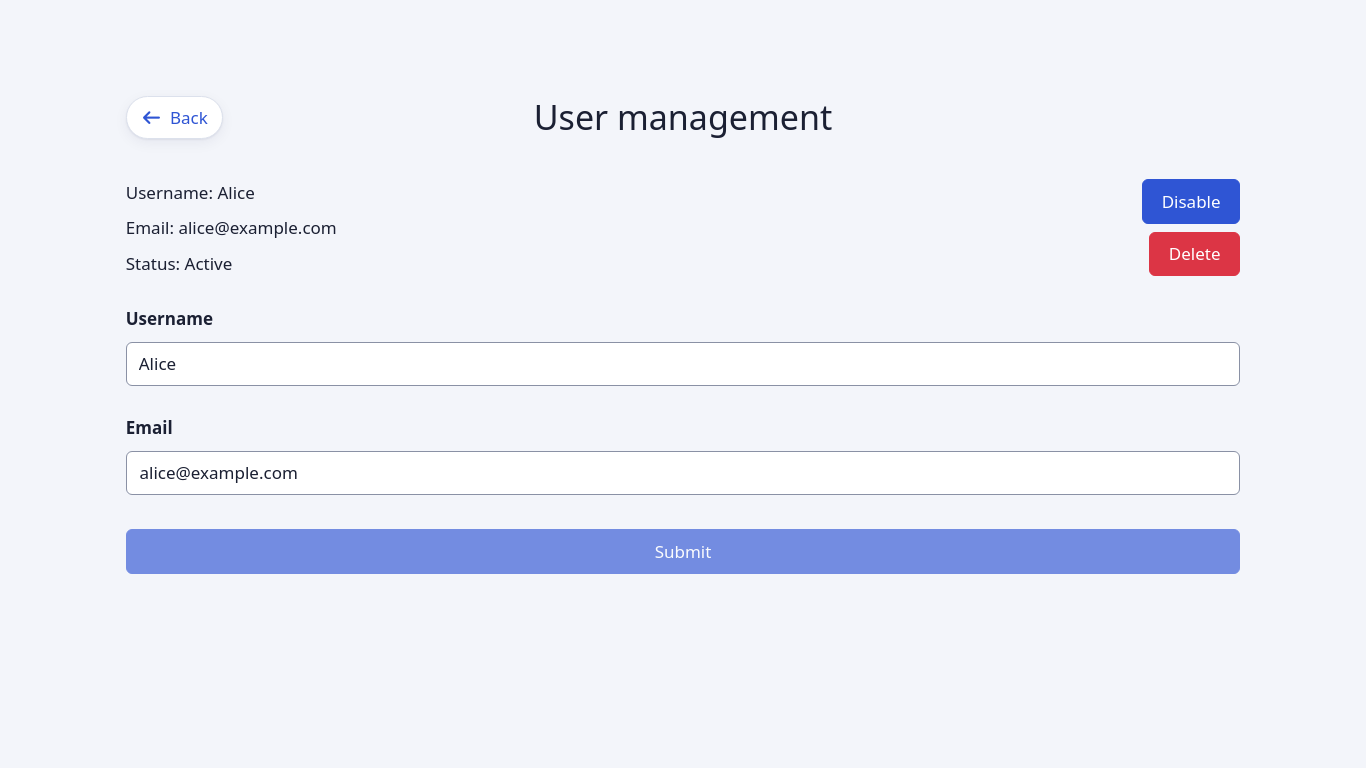
keeps the account and shows the reason when the DaaS cleanup fails
Click the button "Delete" at (1195, 254), box [1149,232,1240,276]
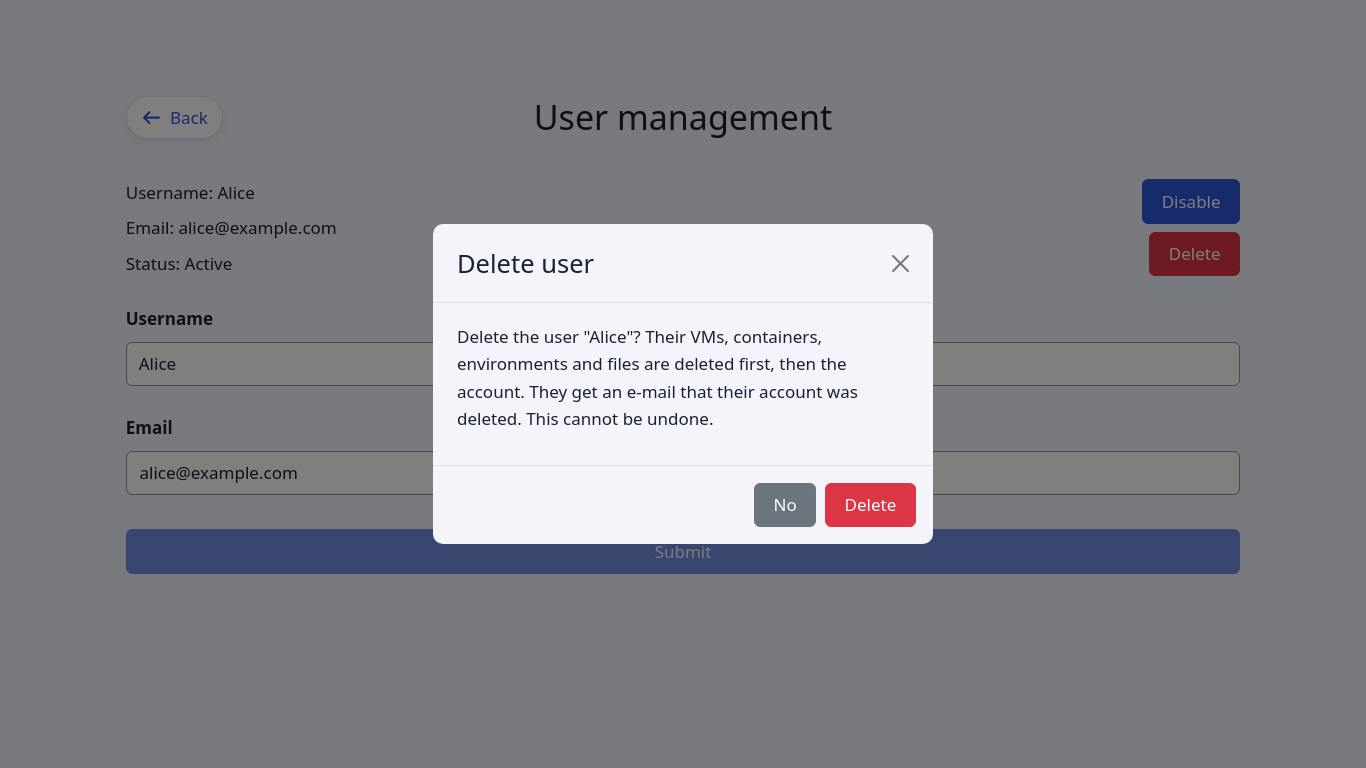
Click the button "Delete" at (870, 505), box [825,483,916,527]
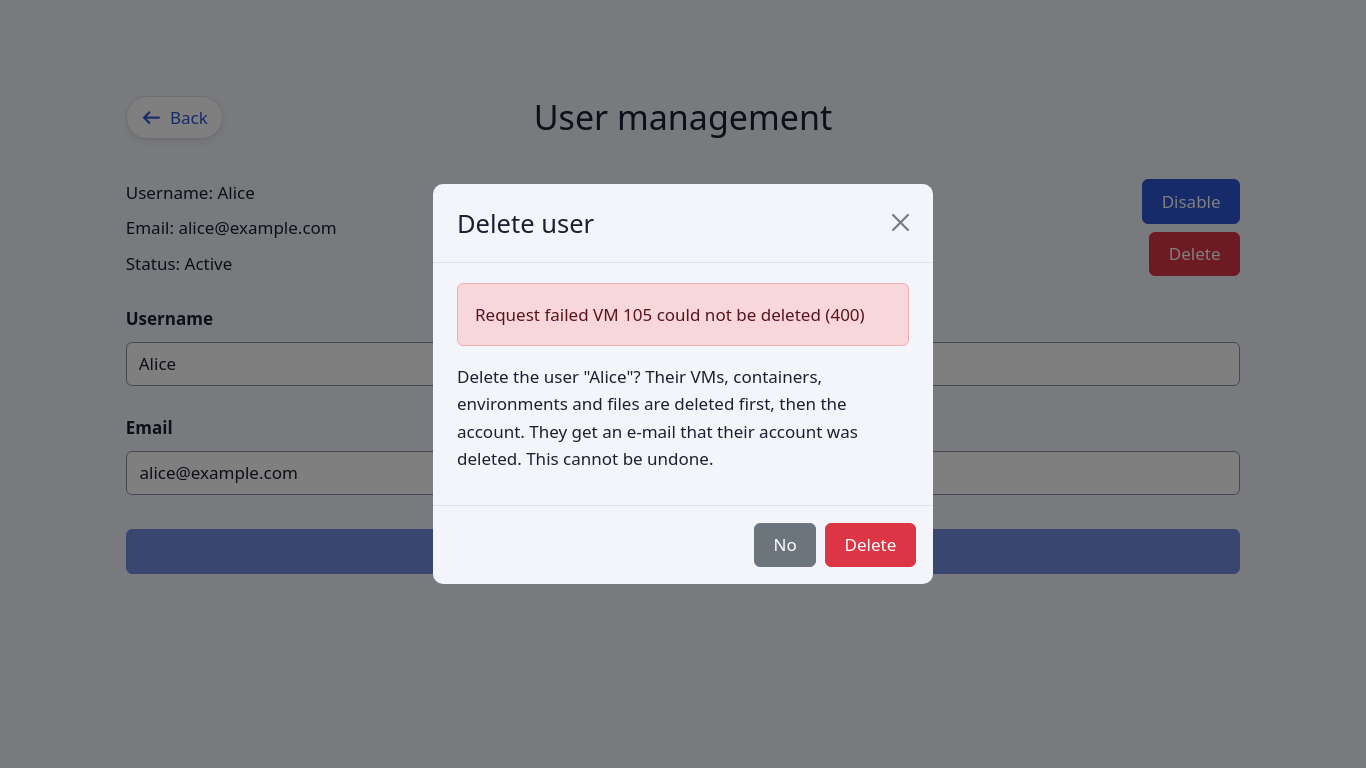
Check: the message shows "VM 105 could not be deleted", box [475,303,865,326]
